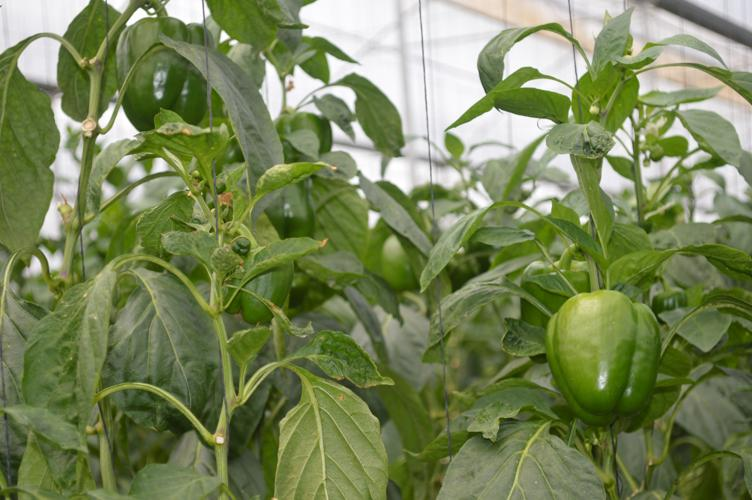BellPepper: (543, 289, 658, 428), (116, 18, 213, 128), (223, 243, 296, 331)
